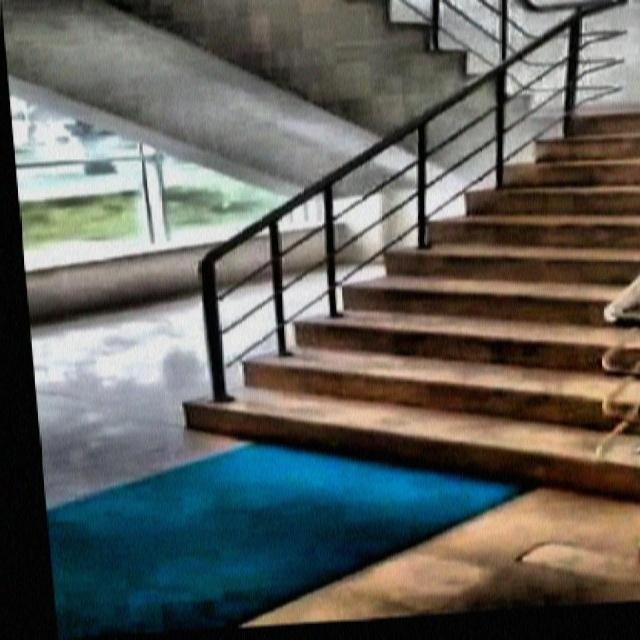stair: (138, 88, 638, 540)
